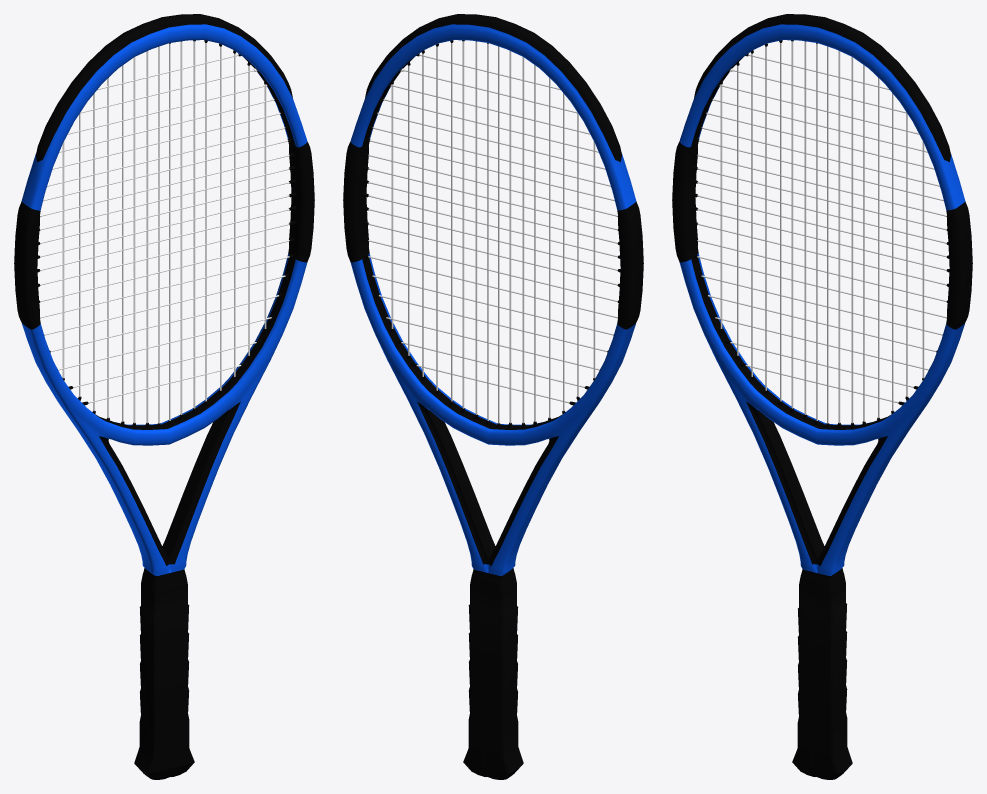
Rendered from Tennis Racket.fbx.
3 views of the same model, side by side, from view 1: azimuth 30°, elevation 25°; view 2: azimuth 150°, elevation 25°; view 3: azimuth 330°, elevation 25° (orthographic).
Visible parts, largest first — view 1: Tennis Racket; view 2: Tennis Racket; view 3: Tennis Racket.
Part boxes in pixels (bbox=[...]): Tennis Racket: bbox=[14, 14, 314, 779]; Tennis Racket: bbox=[343, 14, 643, 779]; Tennis Racket: bbox=[672, 14, 972, 779].
Bounding box in the file's own units: 279 × 691 × 25.15.
